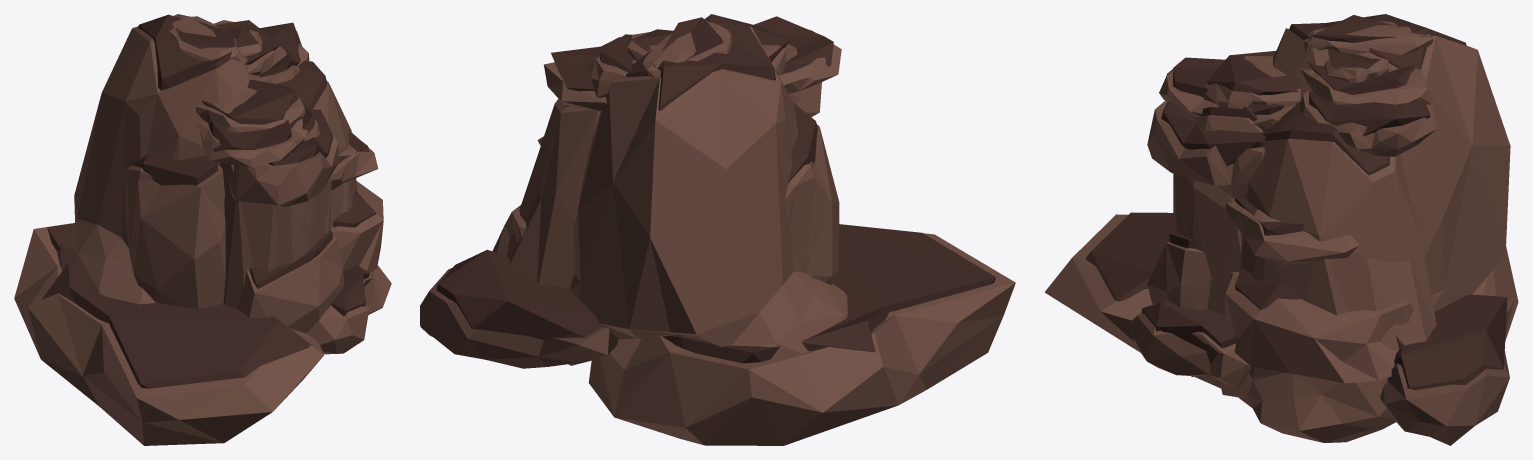
File: Brown_rock_024.fbx
3 views of the same model, side by side, from view 1: azimuth 30°, elevation 25°; view 2: azimuth 150°, elevation 25°; view 3: azimuth 270°, elevation 25° (orthographic). The views are drawn at different scales.
Parts seen in each view (by area): view 1: Brown_rock_024; view 2: Brown_rock_024; view 3: Brown_rock_024.
Boxes of the visible parts, left/top/right/bottom form: Brown_rock_024: left=14, top=14, right=391, bottom=445; Brown_rock_024: left=420, top=14, right=1015, bottom=445; Brown_rock_024: left=1044, top=14, right=1518, bottom=445.
Size of the model in its own units: 1330 by 1290 by 1071.
